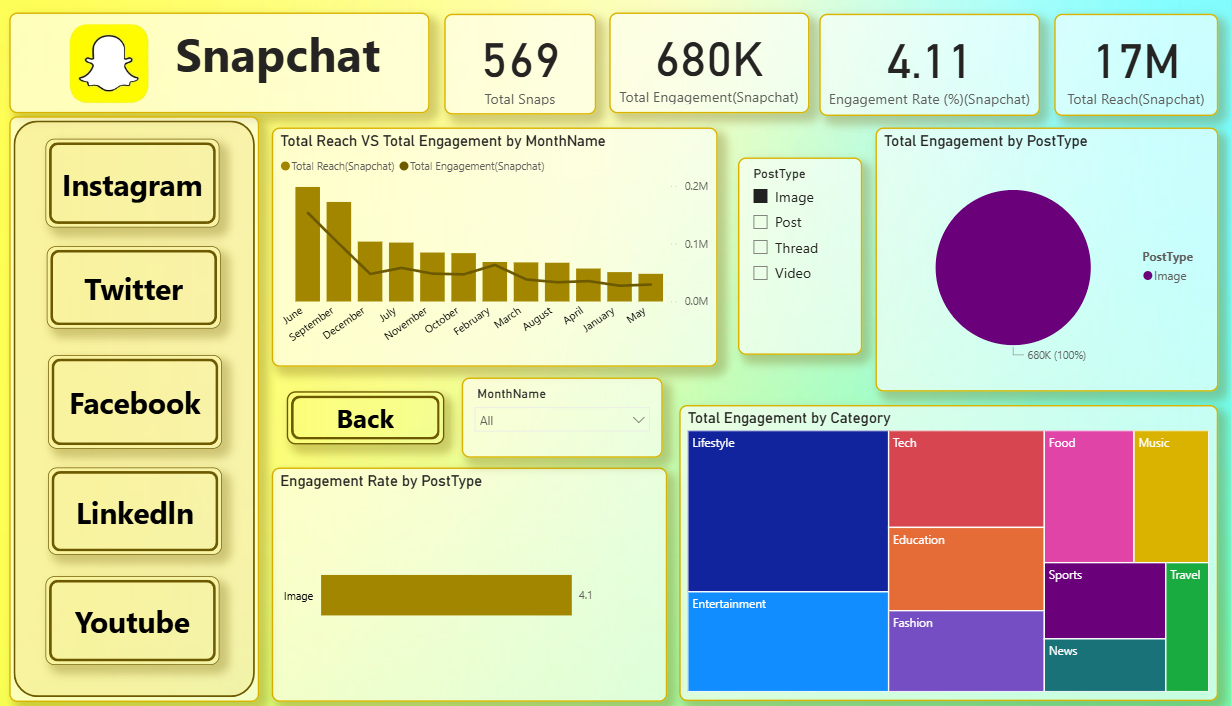

What the dashboard file says about the page in this screenshot:
{"tool":"powerbi","page":{"name":"Snapchat","canvas":[1400,800],"ordinal":3},"visuals":[{"type":"textbox","box":[12.3,13.7,474,113.7],"z":0},{"type":"image","box":[0,0,249.3,142.5],"z":1000},{"type":"card","fields":{"Values":["Snapchat_Data.Total Snaps"]},"box":[503.4,15.3,171.2,113.6],"z":2000},{"type":"card","fields":{"Values":["Snapchat_Data.Total Engagement(Snapchat)"]},"box":[688.1,13.6,225.4,113.6],"z":3000},{"type":"card","fields":{"Values":["Snapchat_Data.Engagement Rate (%)(Snapchat)"]},"box":[925.4,15.3,249.2,115.3],"z":4000},{"type":"card","fields":{"Values":["Snapchat_Data.Total Reach(Snapchat)"]},"box":[1189.8,15.3,184.7,115.3],"z":5000},{"type":"pieChart","title":"Total Engagement by PostType","fields":{"Category":["Snapchat_Data.PostType"],"Y":["Snapchat_Data.Total Engagement(Snapchat)"]},"box":[988.9,143.1,386.1,297.2],"z":6000},{"type":"treemap","title":"Total Engagement by Category","fields":{"Group":["Snapchat_Data.Category"],"Values":["Snapchat_Data.Total Engagement(Snapchat)"]},"box":[768.1,456.9,606.9,333.3],"z":7000},{"type":"lineClusteredColumnComboChart","title":"Total Reach VS Total Engagement by MonthName","fields":{"Category":["Snapchat_Data.MonthName"],"Y":["Snapchat_Data.Total Reach(Snapchat)"],"Y2":["Snapchat_Data.Total Engagement(Snapchat)"]},"box":[308.3,143.1,502.8,269.4],"z":8000},{"type":"clusteredBarChart","title":"Engagement Rate  by PostType","fields":{"Category":["Snapchat_Data.PostType"],"Y":["Snapchat_Data.Engagement Rate (%)(Snapchat)"]},"box":[308.3,526.4,445.8,263.9],"z":9000},{"type":"slicer","fields":{"Values":["Snapchat_Data.MonthName"]},"box":[522.2,425,226.4,90.3],"z":10000},{"type":"slicer","fields":{"Values":["Snapchat_Data.PostType"]},"box":[833.3,177.8,140.3,222.2],"z":11000},{"type":"shape","box":[12.5,130.6,281.9,659.7],"z":12000},{"type":"actionButton","box":[54.2,156.9,195.8,100],"z":13000},{"type":"actionButton","box":[55.6,277.8,195.8,93.1],"z":14000},{"type":"actionButton","box":[56.9,400,195.8,105.6],"z":15000},{"type":"actionButton","box":[56.9,526.4,195.8,98.6],"z":16000},{"type":"actionButton","box":[54.2,648.6,195.8,100],"z":17000},{"type":"actionButton","box":[325,440.3,177.8,59.7],"z":18000}]}

Visuals, with their boxes in screenshot pixels (x1, y1, x2, y2), scaled from the page's 1400x800 canvas onto the 1231x706 screenshot:
textbox: crop(11, 12, 428, 112)
image: crop(0, 0, 219, 126)
card - Snapchat_Data.Total Snaps: crop(443, 14, 593, 114)
card - Snapchat_Data.Total Engagement(Snapchat): crop(605, 12, 803, 112)
card - Snapchat_Data.Engagement Rate (%)(Snapchat): crop(814, 14, 1033, 115)
card - Snapchat_Data.Total Reach(Snapchat): crop(1046, 14, 1209, 115)
"Total Engagement by PostType" pieChart: crop(870, 126, 1209, 389)
"Total Engagement by Category" treemap: crop(675, 403, 1209, 697)
"Total Reach VS Total Engagement by MonthName" lineClusteredColumnComboChart: crop(271, 126, 713, 364)
"Engagement Rate  by PostType" clusteredBarChart: crop(271, 465, 663, 697)
slicer - Snapchat_Data.MonthName: crop(459, 375, 658, 455)
slicer - Snapchat_Data.PostType: crop(733, 157, 856, 353)
shape: crop(11, 115, 259, 697)
actionButton: crop(48, 138, 220, 227)
actionButton: crop(49, 245, 221, 327)
actionButton: crop(50, 353, 222, 446)
actionButton: crop(50, 465, 222, 552)
actionButton: crop(48, 572, 220, 661)
actionButton: crop(286, 389, 442, 441)
